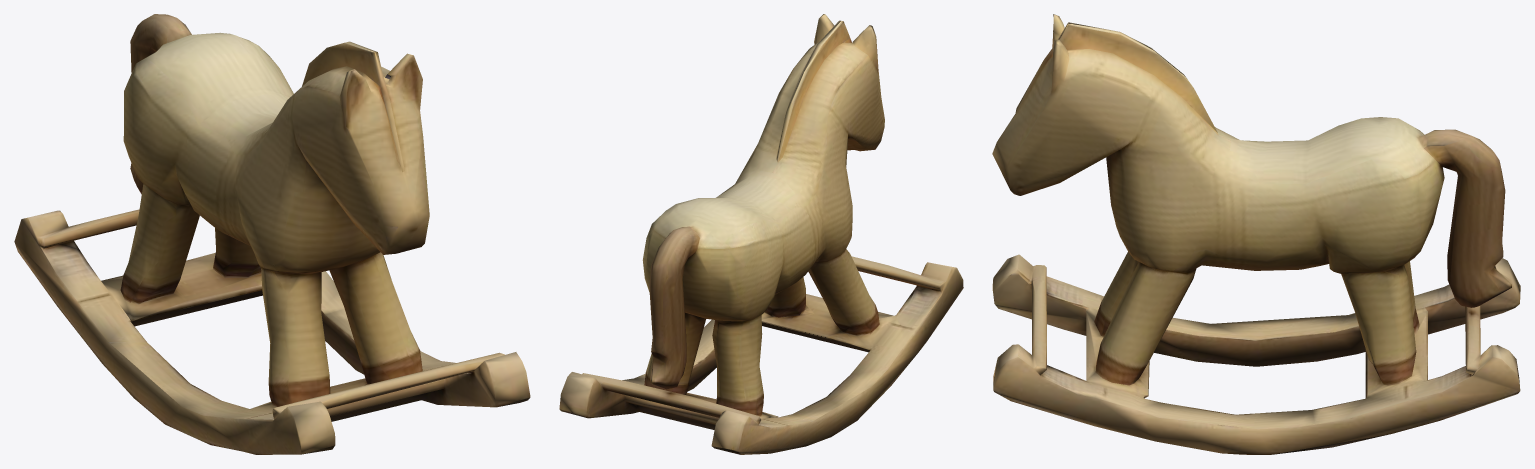
File: rocking_horse.glb
3 renders of one model, left to right at view 1: azimuth 30°, elevation 25°; view 2: azimuth 150°, elevation 25°; view 3: azimuth 270°, elevation 25°, orthographic. The views are drawn at different scales.
Parts seen in each view (by area): view 1: rocking_horse; view 2: rocking_horse; view 3: rocking_horse.
Part boxes in pixels (x1=…): rocking_horse: x1=14, y1=14, x2=530, y2=454; rocking_horse: x1=559, y1=14, x2=963, y2=454; rocking_horse: x1=992, y1=14, x2=1520, y2=454.
Size of the model in its own units: 0.4637 by 0.7957 by 0.9997.
Materials: 1 (1 with a texture image).
